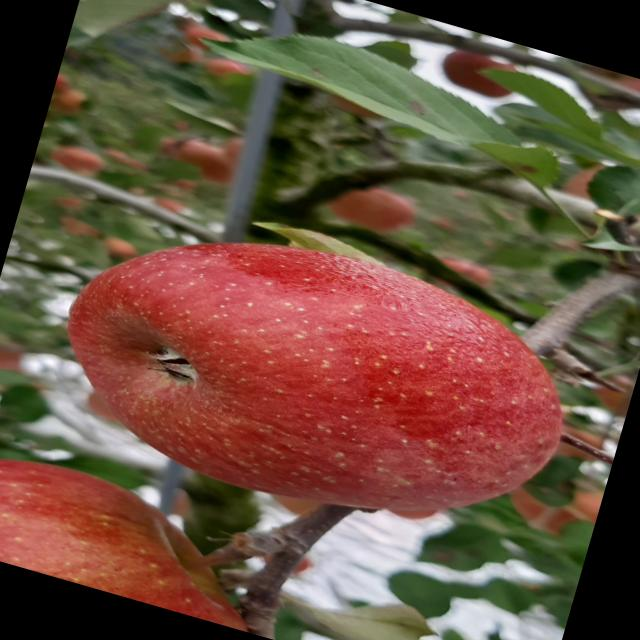fresh: (19, 177, 612, 579)
